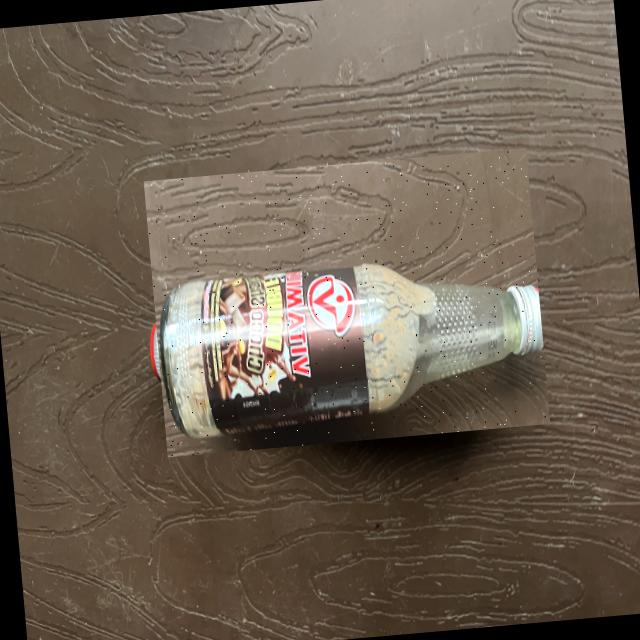REJECT: (143, 147, 550, 456)
